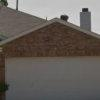Chimney: (73, 3, 100, 33)
